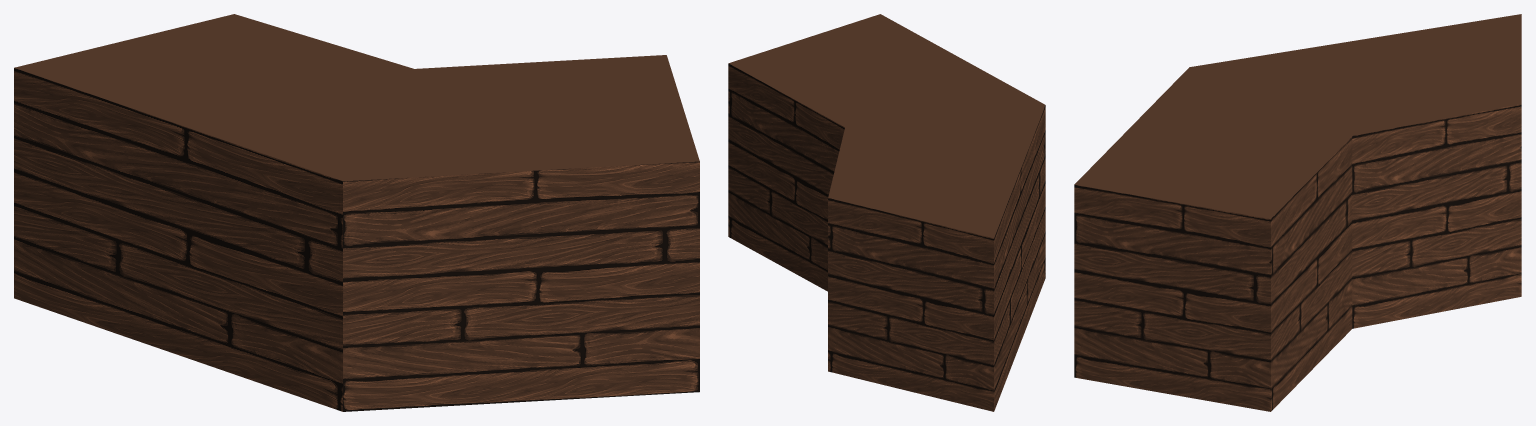
Rendered from muro_angolo_45_gradi_per_andare_dritto.fbx.
3 views of the same model, side by side, from view 1: azimuth 30°, elevation 25°; view 2: azimuth 150°, elevation 25°; view 3: azimuth 270°, elevation 25° (orthographic). The views are drawn at different scales.
Parts seen in each view (by area): view 1: Muro_angolo_45_gradi per andare dritto; view 2: Muro_angolo_45_gradi per andare dritto; view 3: Muro_angolo_45_gradi per andare dritto.
Boxes of the visible parts, x1,y1,x2,y2 form: Muro_angolo_45_gradi per andare dritto: [14, 14, 699, 411]; Muro_angolo_45_gradi per andare dritto: [728, 14, 1045, 411]; Muro_angolo_45_gradi per andare dritto: [1074, 14, 1521, 411].
Size of the model in its own units: 456 by 200 by 421.
